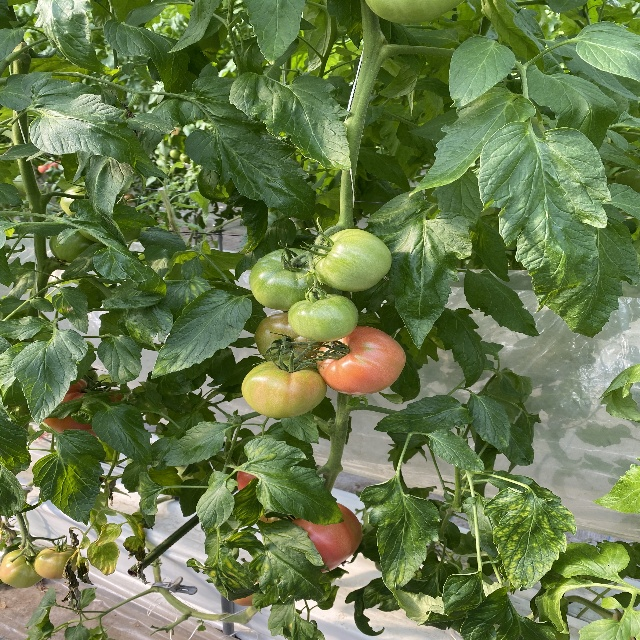b_green: (248, 248, 331, 312), (239, 360, 327, 419), (312, 228, 392, 292), (288, 293, 359, 344), (364, 0, 466, 24), (49, 231, 96, 264)
b_half_ripened: (315, 325, 406, 396), (291, 502, 363, 573), (255, 311, 323, 367), (1, 548, 44, 589), (34, 545, 82, 580)
